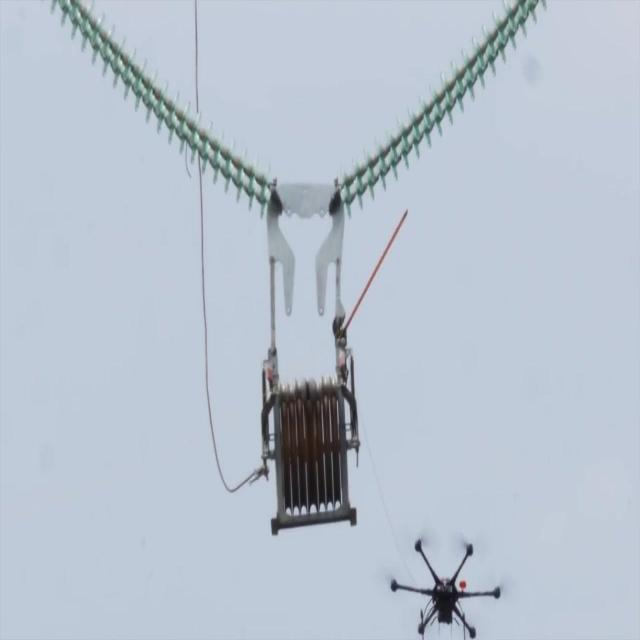drone: (388, 534, 502, 640)
